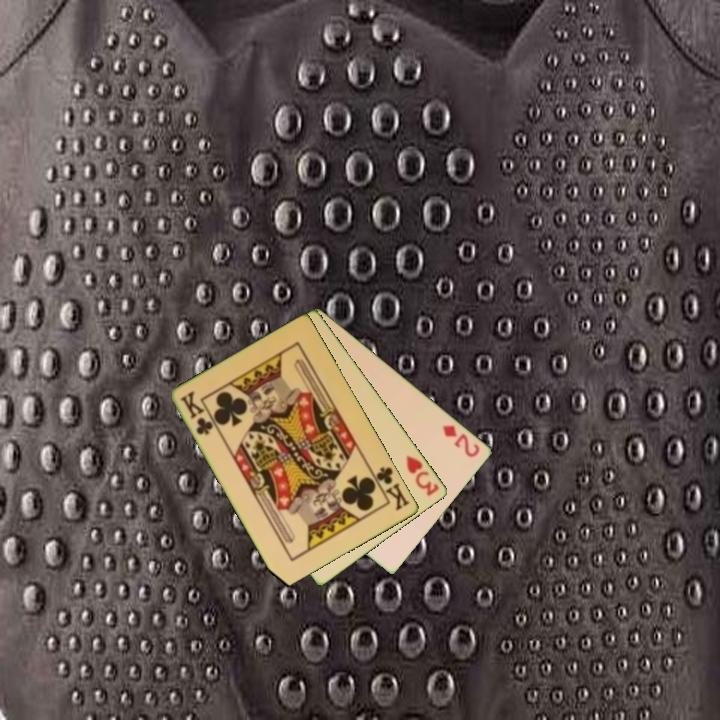2d: (439, 421, 483, 460)
3h: (403, 452, 442, 499)
Kc: (368, 463, 413, 513), (177, 387, 216, 438)
